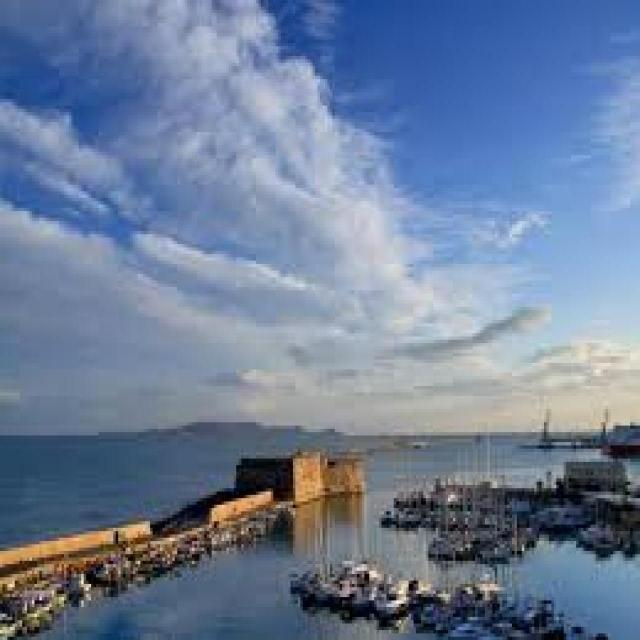Kules: (236, 446, 371, 507)
